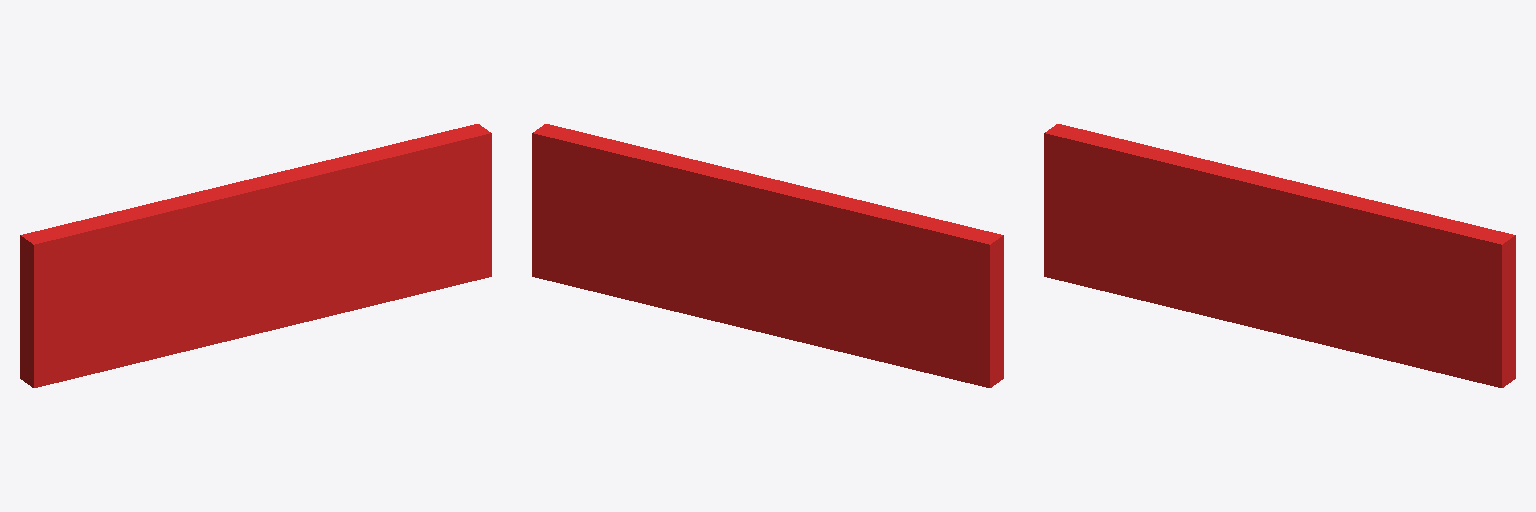
robot.urdf — simplewall:
<?xml version="1.0"?>
<robot name="simplewall">
    <!-- Colors -->
    <material name="red">
        <color rgba="0.941 0.204 0.204 1"/>
    </material>

    <!-- Wall -->
    <link name="base_link">
        <visual>
            <geometry>
                <box size="10 0.5 3" />
                <origin rpy="0 0 0" xyz="0 0 0"/>
            </geometry>
            <material name="red"/>
        </visual>

        <collision>
             <geometry>
                <box size="10 0.5 3" />
                <origin rpy="0 0 0" xyz="0 0 0"/>
            </geometry>
        </collision>
        <inertial>
            <mass value="0"/>
            <inertia ixx="0" ixy="0" ixz="0" iyy="0" iyz="0" izz="0"/>
        </inertial>
    </link>
</robot>

--- Render facts (derived) ---
3 views of the same robot in one strip: view 1: azimuth 30°, elevation 25°; view 2: azimuth 150°, elevation 25°; view 3: azimuth 330°, elevation 25° (orthographic).
Robot: simplewall — 1 links, 0 joints (none); root link base_link; default pose: every joint at zero.
Links seen in each view (by area): view 1: base_link; view 2: base_link; view 3: base_link.
Link boxes in pixels (left/top/right/bottom): base_link: left=20, top=124, right=491, bottom=387; base_link: left=532, top=124, right=1003, bottom=387; base_link: left=1044, top=124, right=1515, bottom=387.
Bounding box of the posed robot: 10 × 0.5 × 3 m (x, y, z).
Geometry: primitives only (box / cylinder / sphere), no mesh files.